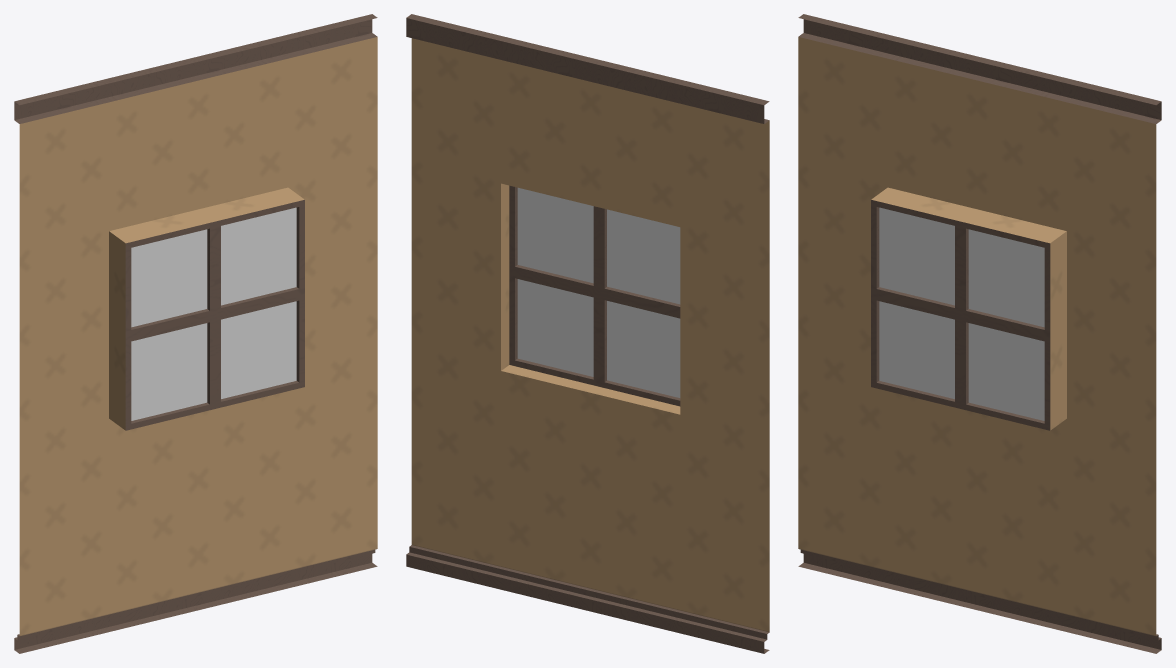
File: Wall Room Window (1).fbx
3 renders of one model, left to right at view 1: azimuth 30°, elevation 25°; view 2: azimuth 150°, elevation 25°; view 3: azimuth 330°, elevation 25°, orthographic.
Visible parts, largest first — view 1: Wall Room Window.001; view 2: Wall Room Window.001; view 3: Wall Room Window.001.
Part boxes in pixels (x1,y1,x2,y2): Wall Room Window.001: (14, 14, 377, 653); Wall Room Window.001: (406, 14, 769, 653); Wall Room Window.001: (798, 14, 1161, 653).
Bounding box in the file's own units: 4 × 5.85 × 0.4263.
